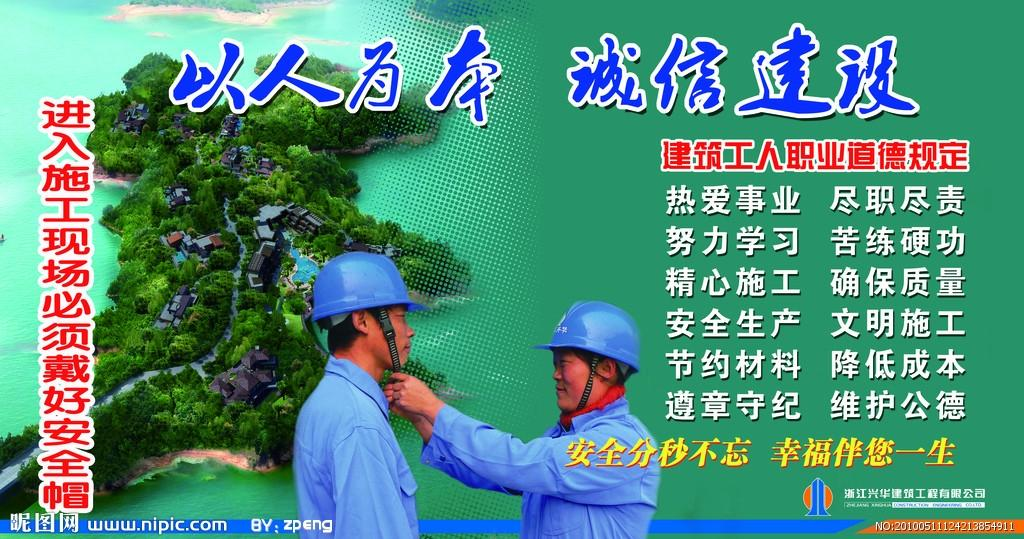helmet: (309, 247, 432, 327), (532, 301, 657, 372)
wear: (294, 377, 415, 539), (527, 405, 655, 539)
